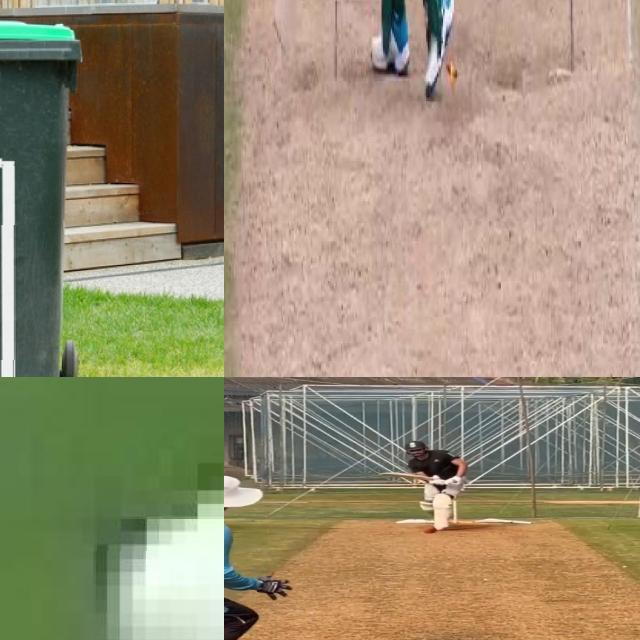Cricket ball: (91, 482, 224, 640), (422, 525, 437, 534)
